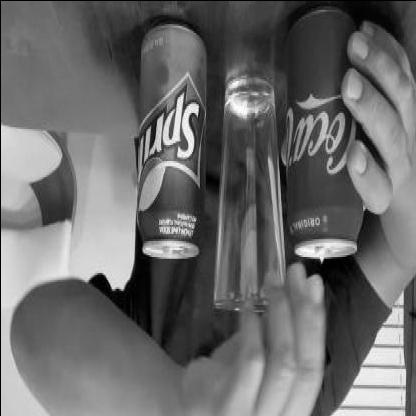alumunium_can: (284, 7, 363, 258), (136, 18, 208, 258)
objects: (211, 75, 286, 313)
